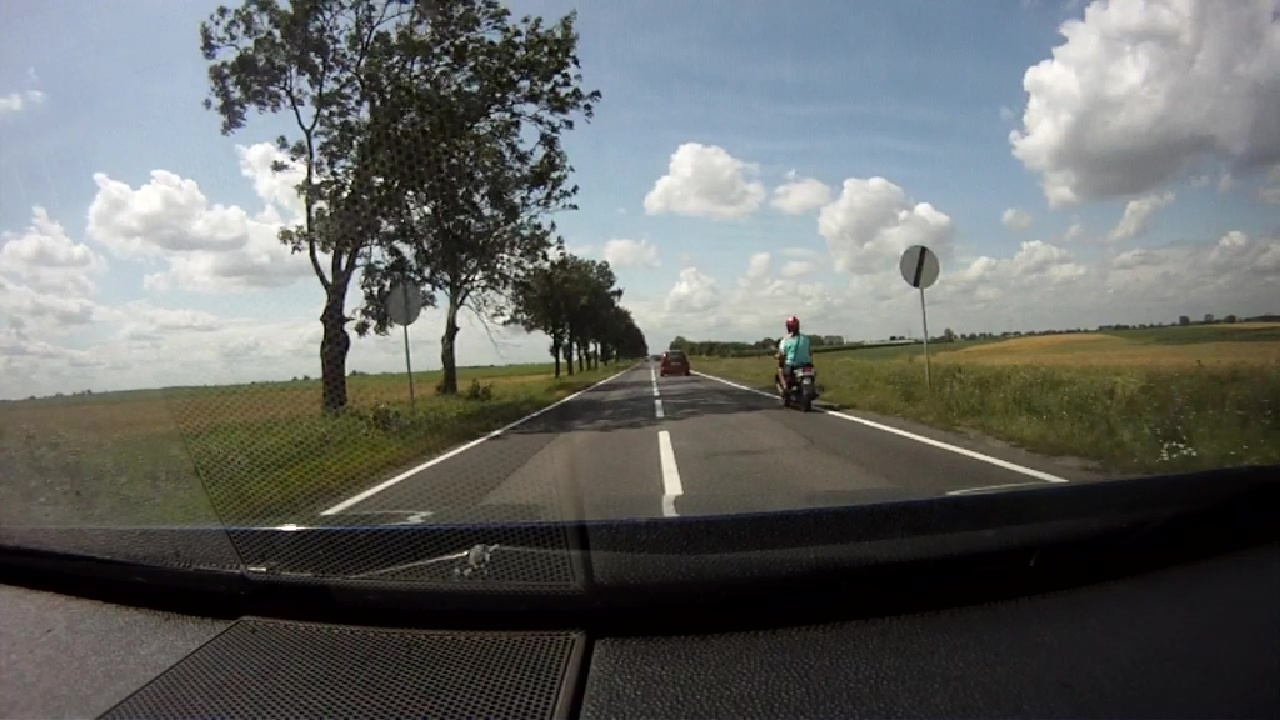B42: (898, 244, 941, 289)
